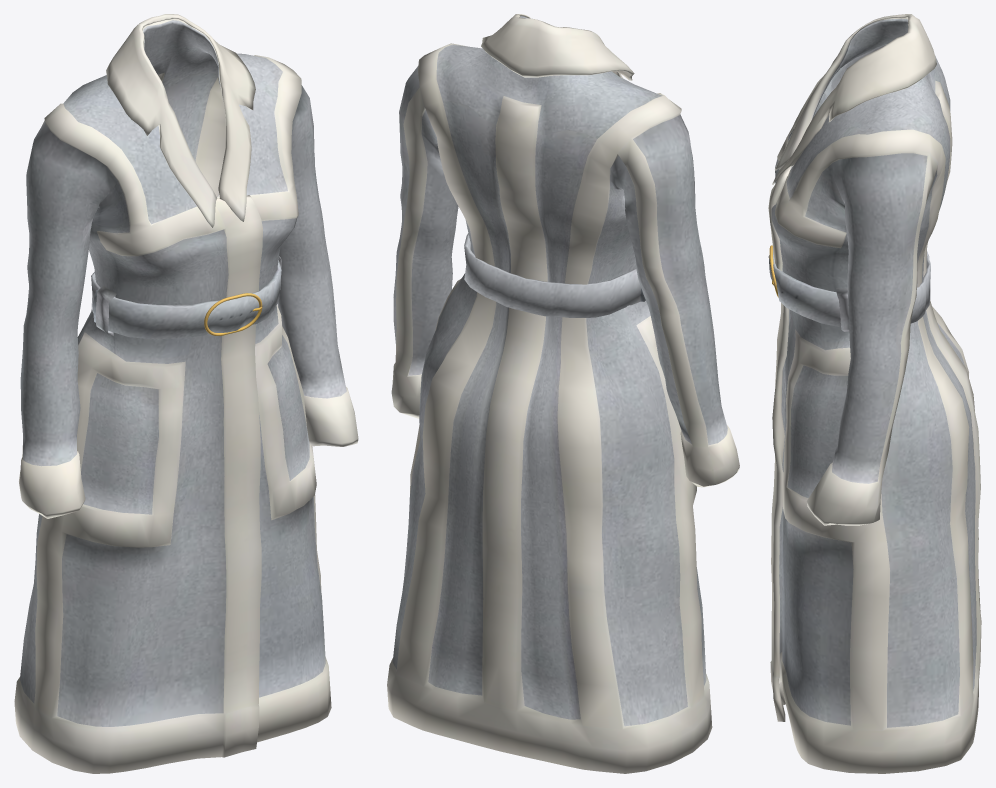
File: punkduck-winter-coat.glb
The picture shows the model from 3 angles, left to right: view 1: azimuth 30°, elevation 25°; view 2: azimuth 150°, elevation 25°; view 3: azimuth 270°, elevation 25°; orthographic projection. The views are drawn at different scales.
Visible parts, largest first — view 1: Human.punkduck_winter_coat; view 2: Human.punkduck_winter_coat; view 3: Human.punkduck_winter_coat.
Boxes of the visible parts, x1,y1,x2,y2 form: Human.punkduck_winter_coat: [14, 14, 358, 773]; Human.punkduck_winter_coat: [387, 14, 739, 773]; Human.punkduck_winter_coat: [768, 14, 981, 773].
Bounding box in the file's own units: 0.5268 × 1.07 × 0.3003.
Materials: 1 (1 with a texture image).
